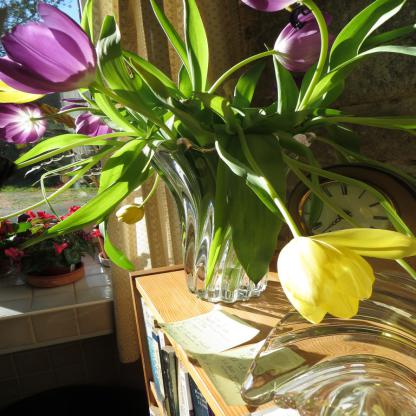vase: (153, 131, 316, 305)
